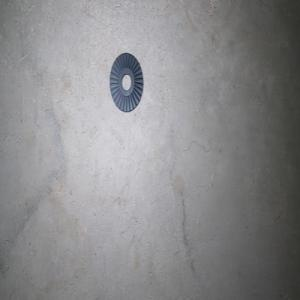Washer: (109, 52, 143, 112)
